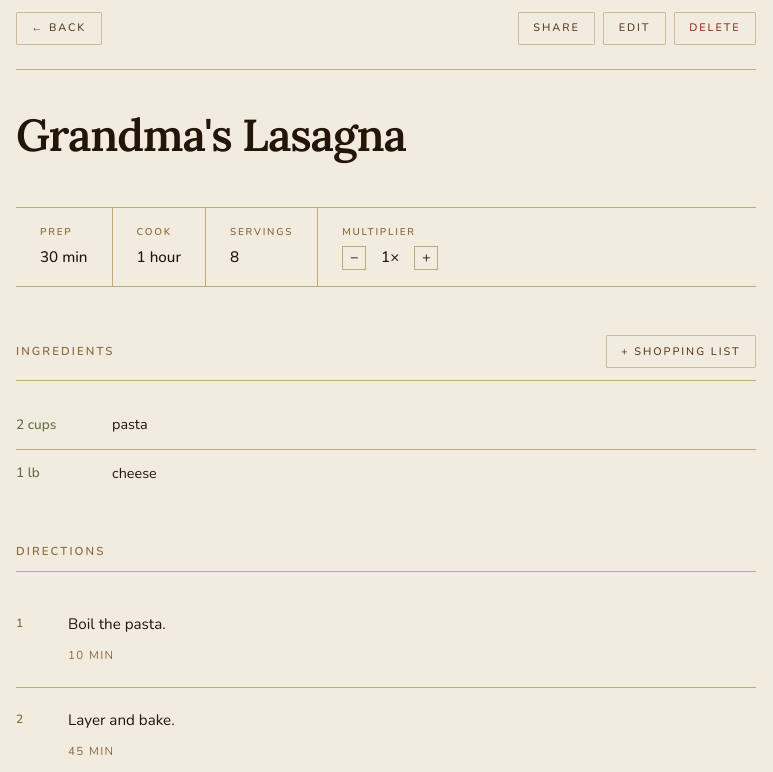
Test case: RecipeViewer › multiplier scales ingredient amounts and servings
Expected: the heading "Grandma's Lasagna" is shown, [16, 106, 406, 163]
Expected: the text "1×" is shown, [381, 247, 399, 267]
What coordinates should you click on to do the following:
click the button named "Increase recipe multiplier"
I would click on:
 (426, 258)
Its box is [414, 246, 438, 270].
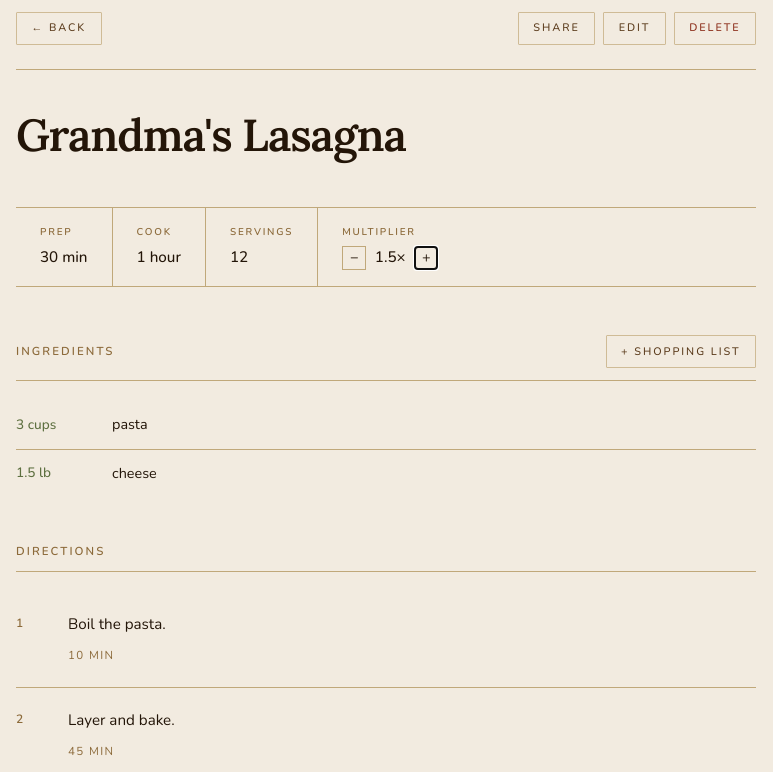
What coordinates should you click on to do the following:
click the button named "Increase recipe multiplier"
I would click on:
 (426, 258)
Its box is [414, 246, 438, 270].
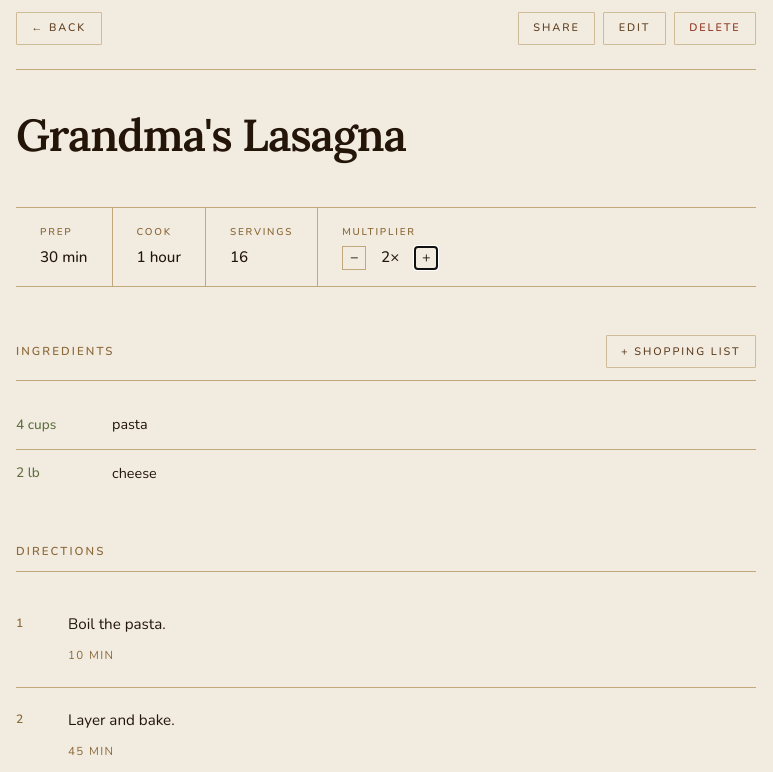
Expected: the text "2×" is shown, [381, 247, 399, 267]
Expected: the text "4 cups" is shown, [16, 415, 56, 434]
Expected: the text "2 lb" is shown, [16, 463, 40, 482]
